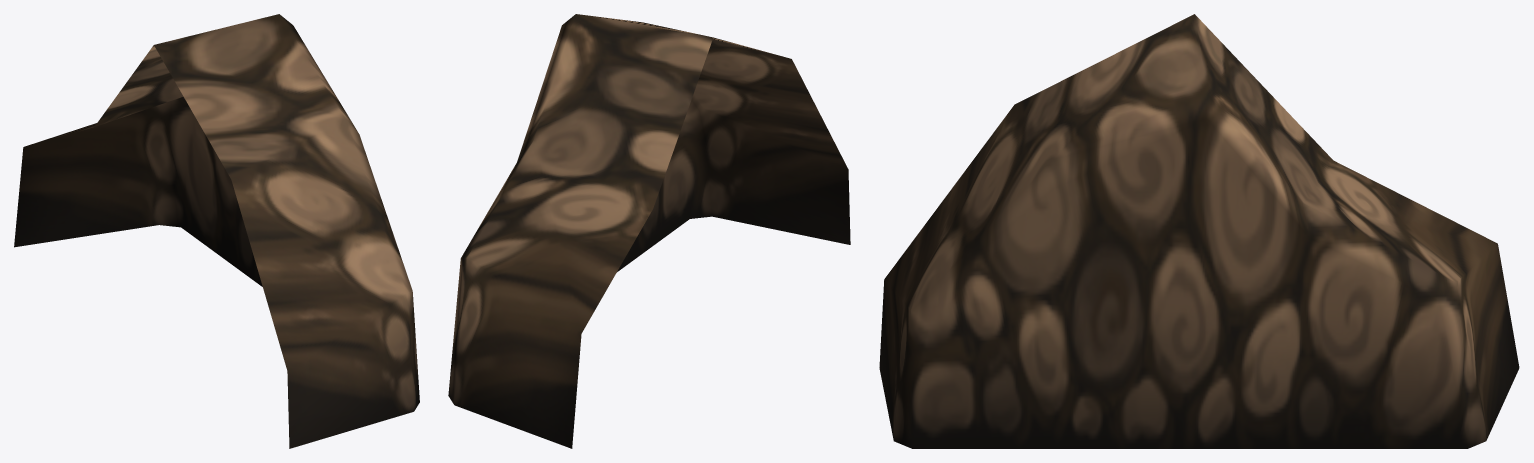
File: M_WoodPile.fbx
3 renders of one model, left to right at view 1: azimuth 30°, elevation 25°; view 2: azimuth 150°, elevation 25°; view 3: azimuth 270°, elevation 25°, orthographic. The views are drawn at different scales.
Parts seen in each view (by area): view 1: M_WoodPile; view 2: M_WoodPile; view 3: M_WoodPile.
Part boxes in pixels (x1,y1,x2,y2): M_WoodPile: (14, 14, 419, 448); M_WoodPile: (448, 14, 850, 448); M_WoodPile: (879, 14, 1519, 448).
Bounding box in the file's own units: 0.9065 × 1.82 × 2.99.
